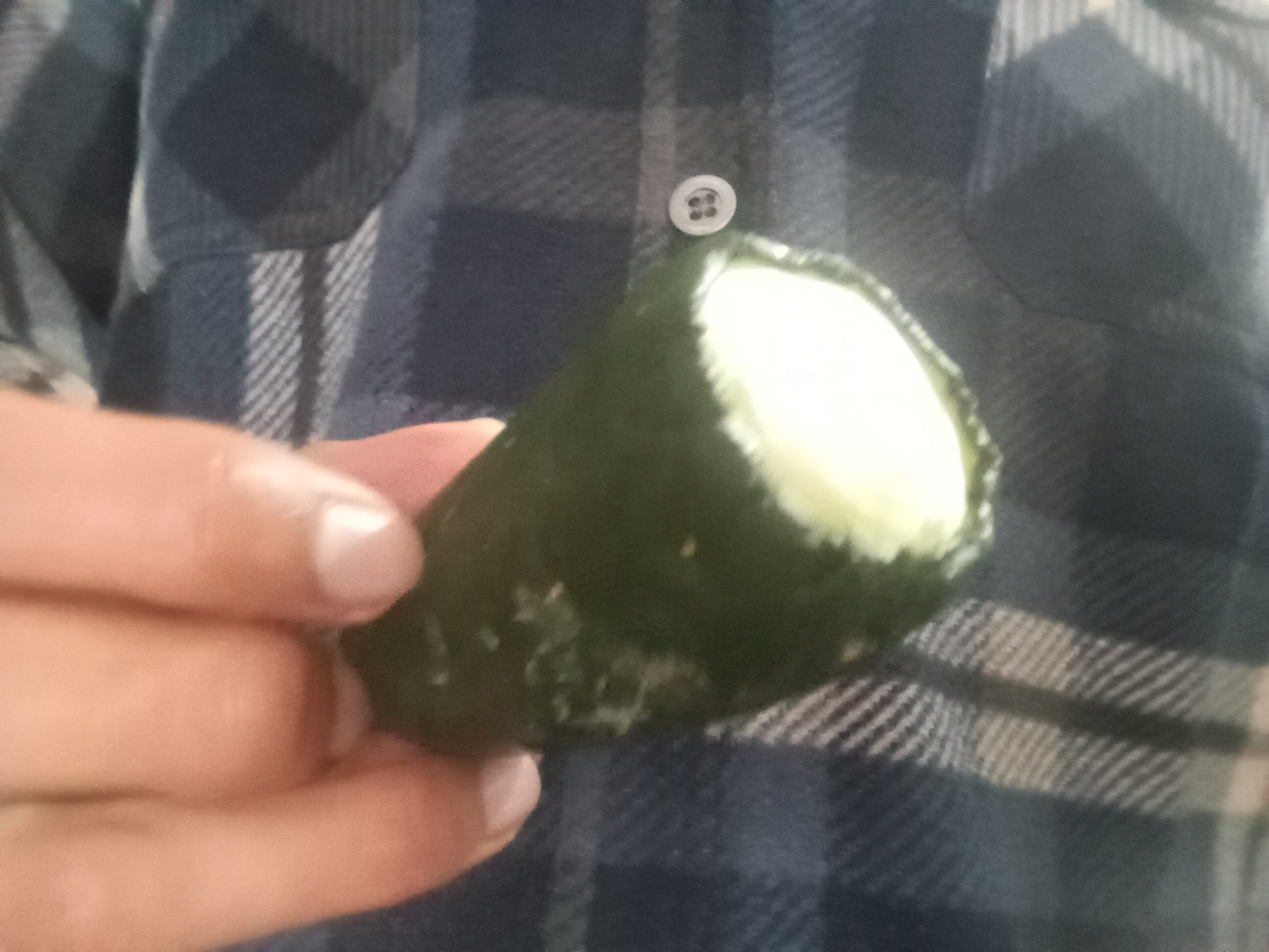Organico: (344, 222, 1004, 746)
